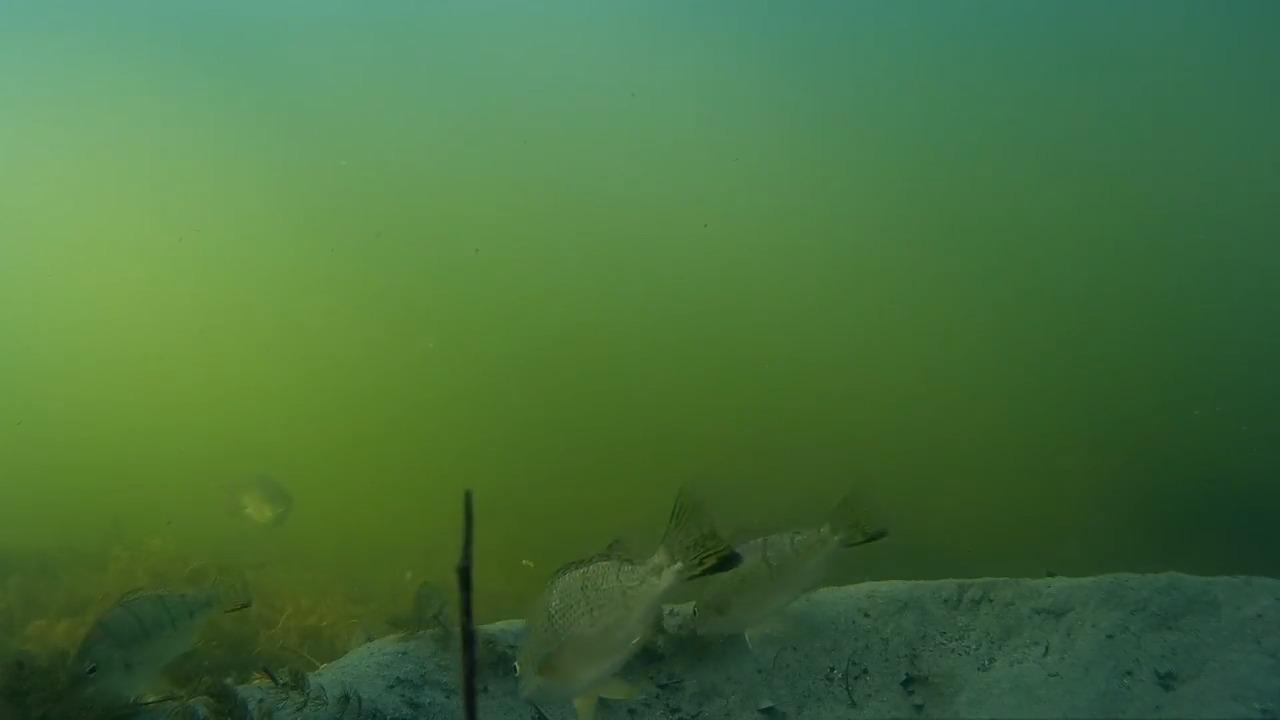Tilapia: (525, 483, 734, 714), (670, 492, 921, 678), (16, 573, 270, 712), (214, 474, 301, 540)
